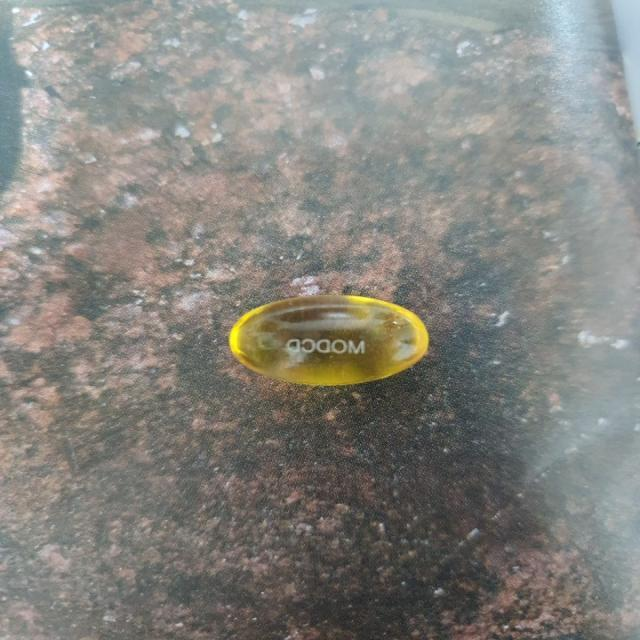pill: (224, 281, 429, 393)
